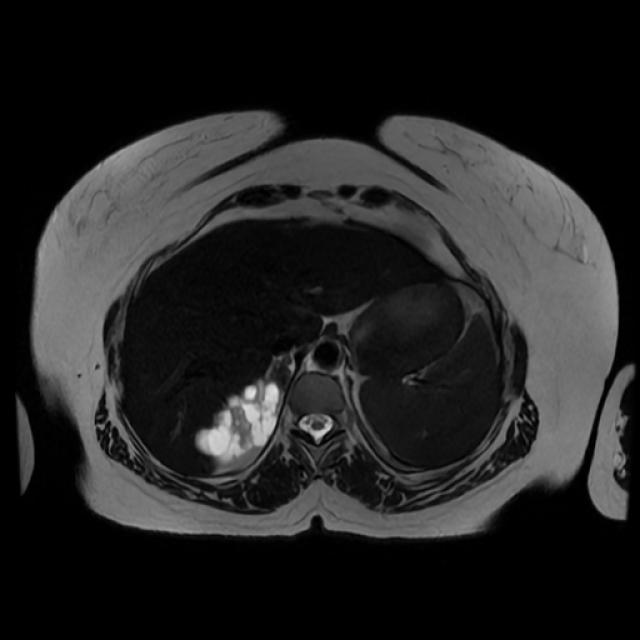sag: (197, 380, 284, 458)
